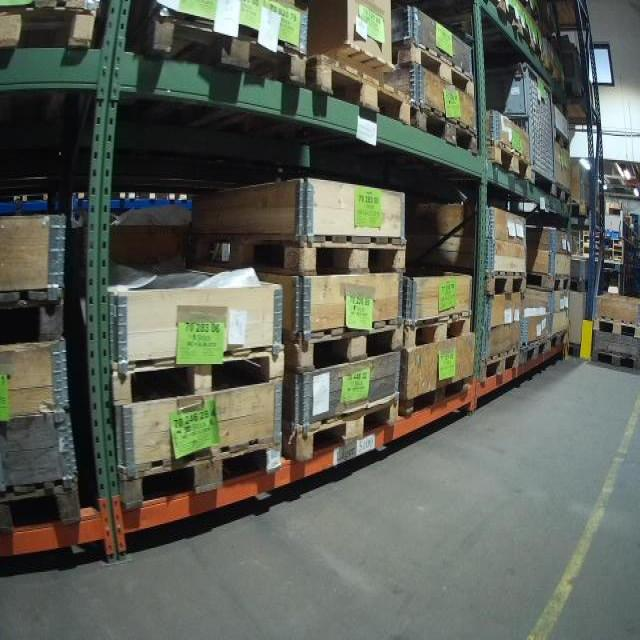pallet: (129, 4, 308, 91), (117, 437, 286, 518), (115, 337, 289, 408), (290, 385, 401, 466), (309, 49, 411, 137), (194, 237, 406, 278), (291, 319, 407, 377), (1, 472, 82, 546), (383, 38, 477, 96), (1, 280, 70, 351), (1, 4, 102, 49), (411, 101, 480, 160), (406, 372, 474, 422), (467, 1, 530, 47), (405, 309, 475, 350), (481, 141, 534, 188), (480, 348, 521, 388), (468, 275, 530, 301), (525, 268, 578, 294), (592, 345, 638, 374), (528, 24, 552, 77), (520, 334, 552, 369), (593, 318, 637, 339), (550, 328, 575, 353), (554, 185, 576, 210), (550, 68, 570, 86), (555, 124, 571, 146)
stillage: (481, 62, 558, 203), (556, 41, 598, 113)
